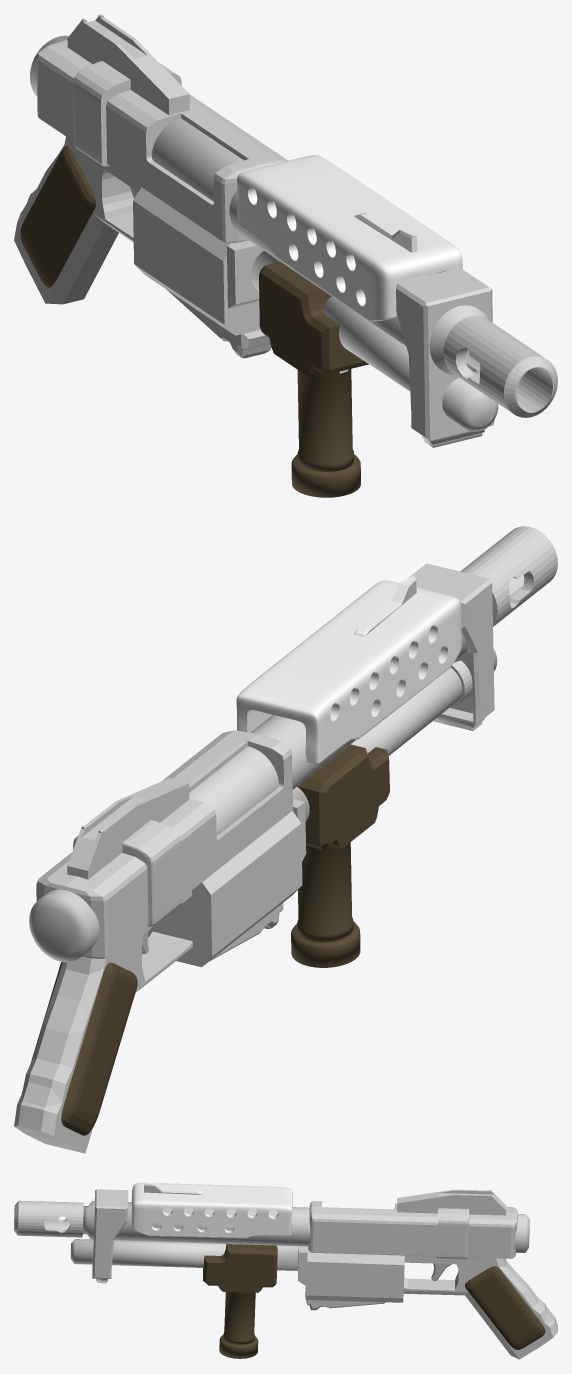
Rendered from silahful.glb.
3 renders of one model, top to bottom at view 1: azimuth 30°, elevation 25°; view 2: azimuth 150°, elevation 25°; view 3: azimuth 270°, elevation 25°, orthographic. The views are drawn at different scales.
Parts seen in each view (by area): view 1: Plane.009; view 2: Plane.009; view 3: Plane.009.
Part boxes in pixels (x1,y1,x2,y2): Plane.009: (14,14,557,497); Plane.009: (14,526,557,1153); Plane.009: (14,1182,557,1359).
Size of the model in its own units: 2.85 by 10.49 by 30.07.
